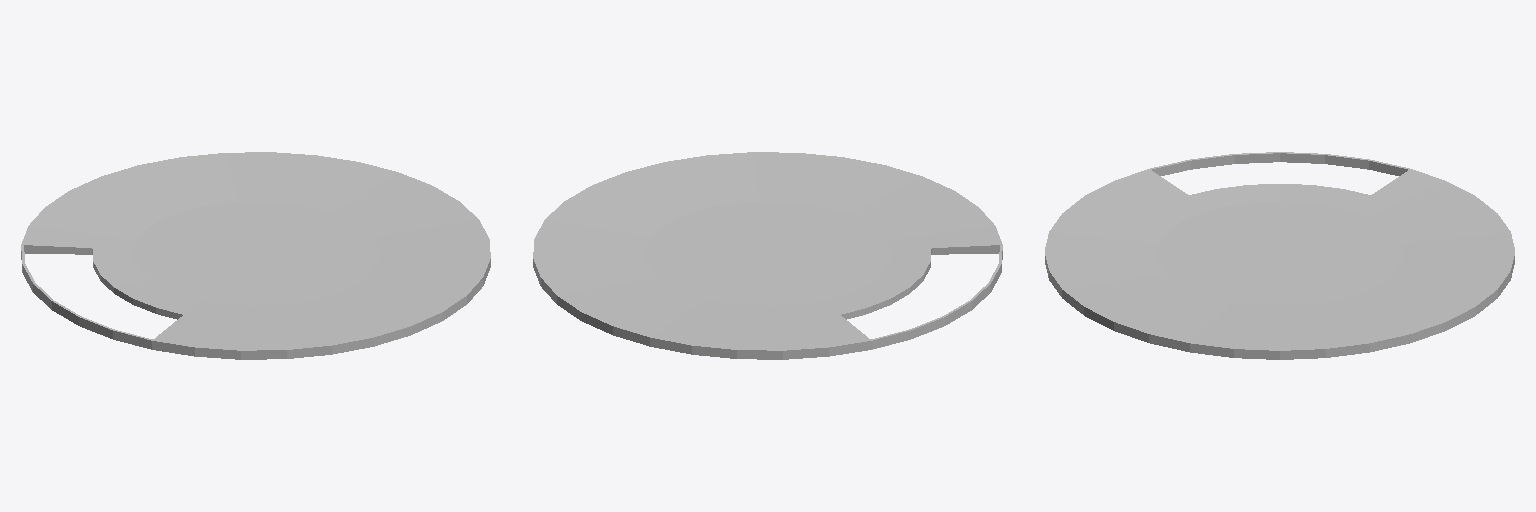
The model's file is tower_stage.obj.
3 views of the same model, side by side, from view 1: azimuth 30°, elevation 25°; view 2: azimuth 150°, elevation 25°; view 3: azimuth 270°, elevation 25° (orthographic).
Visible parts, largest first — view 1: Cylinder.001; view 2: Cylinder.001; view 3: Cylinder.001.
Part boxes in pixels (x1,y1,x2,y2): Cylinder.001: (21, 152, 490, 359); Cylinder.001: (533, 152, 1002, 359); Cylinder.001: (1045, 152, 1514, 359).
Bounding box in the file's own units: 16.74 × 0.3581 × 16.74.